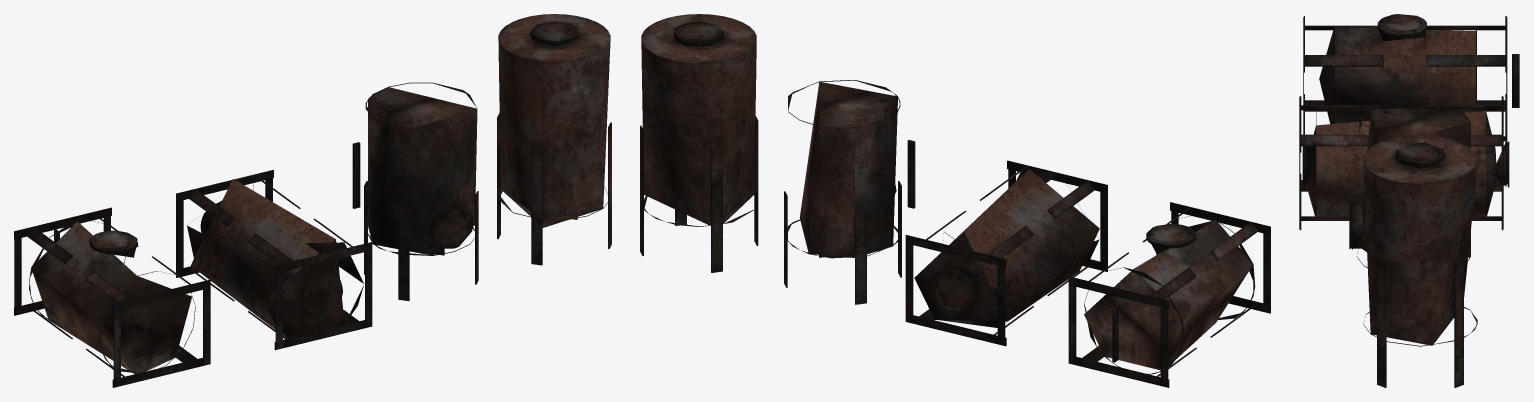
The model's file is liquid-tanks.lod0.glb.
3 renders of one model, left to right at view 1: azimuth 30°, elevation 25°; view 2: azimuth 150°, elevation 25°; view 3: azimuth 270°, elevation 25°, orthographic. The views are drawn at different scales.
Visible parts, largest first — view 1: tank005_storage_0; view 2: tank005_storage_0; view 3: tank005_storage_0.
Boxes of the visible parts, x1,y1,x2,y2 form: tank005_storage_0: (14, 14, 611, 387); tank005_storage_0: (640, 14, 1270, 387); tank005_storage_0: (1299, 14, 1519, 387).
Bounding box in the file's own units: 5.99 × 2.2 × 2.04.
Materials: 1 (1 with a texture image).
